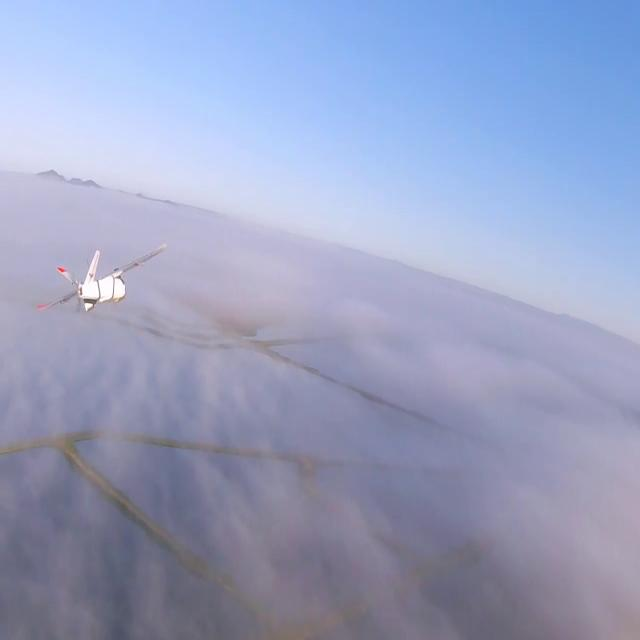iha: (0, 272, 104, 287)
